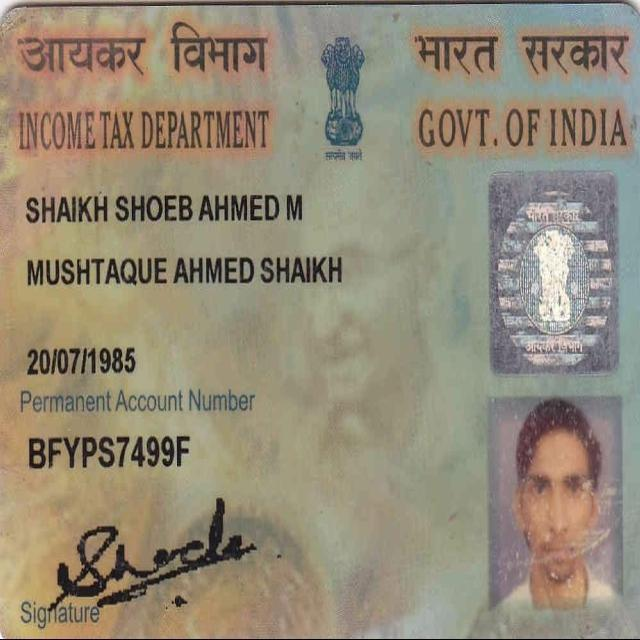pan_card: (1, 7, 640, 639)
